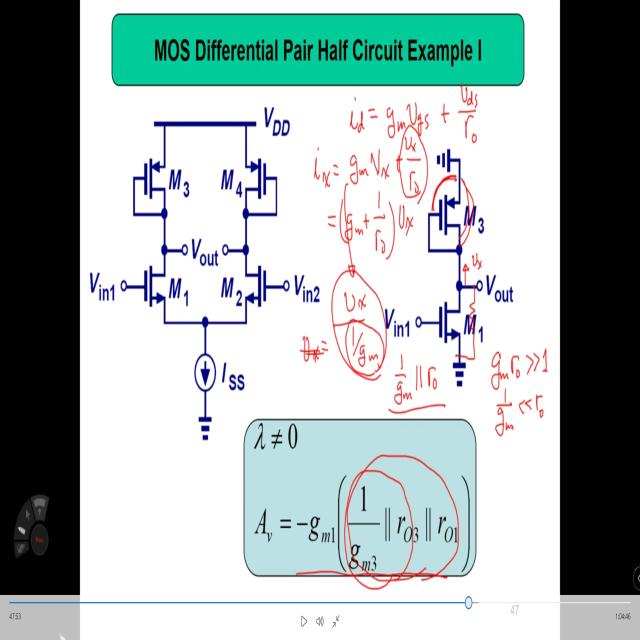panseo: (299, 78, 555, 440)
